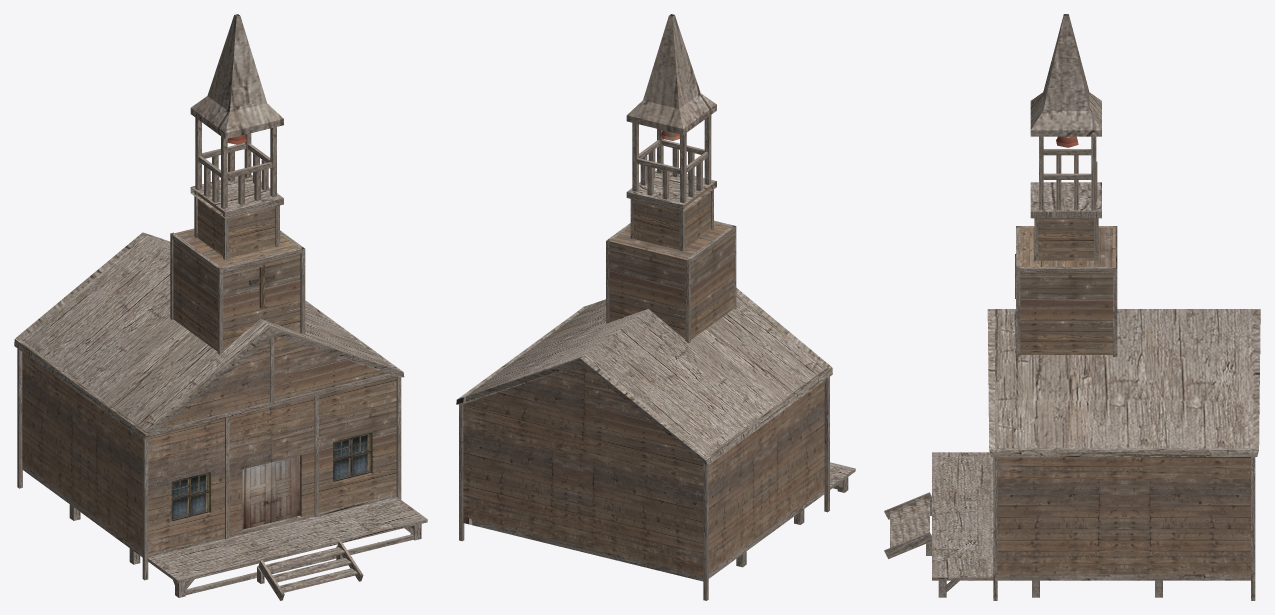
The model's file is CHURCH.fbx.
3 renders of one model, left to right at view 1: azimuth 30°, elevation 25°; view 2: azimuth 150°, elevation 25°; view 3: azimuth 270°, elevation 25°, orthographic. The views are drawn at different scales.
Visible parts, largest first — view 1: House5, Box397, Box372, Box427, Object088, Box394, Box384, Box371, Box405, Box422, Box378, Box399; view 2: House5, Box397, Box427, Box371, Box394, Box422, Box405; view 3: House5, Box397, Box372, Box427, Box405, Box371, Box394, Box384, Box422, Box403, Box390.
Boxes of the visible parts, x1,y1,x2,y2 form: House5: [22, 190, 396, 554]; Box397: [14, 232, 404, 440]; Box372: [147, 497, 427, 583]; Box427: [190, 14, 283, 139]; Object088: [242, 424, 301, 529]; Box394: [17, 337, 401, 580]; Box384: [266, 547, 358, 592]; Box371: [22, 463, 396, 557]; Box405: [190, 174, 283, 218]; Box422: [195, 118, 276, 208]; Box378: [185, 534, 414, 595]; Box399: [217, 267, 223, 354]; House5: [463, 183, 824, 575]; Box397: [456, 288, 832, 465]; Box427: [626, 14, 716, 134]; Box371: [463, 488, 824, 581]; Box394: [459, 377, 829, 600]; Box422: [632, 115, 711, 202]; Box405: [626, 170, 716, 211]; House5: [997, 218, 1250, 574]; Box397: [987, 309, 1260, 456]; Box372: [932, 452, 993, 580]; Box427: [1030, 14, 1101, 136]; Box405: [1030, 182, 1101, 218]; Box371: [997, 574, 1250, 580]; Box394: [993, 457, 1255, 600]; Box384: [890, 499, 929, 547]; Box422: [1039, 136, 1096, 210]; Box403: [1020, 267, 1112, 272]; Box390: [884, 532, 931, 558].
Size of the model in its own units: 347 by 652 by 423.
